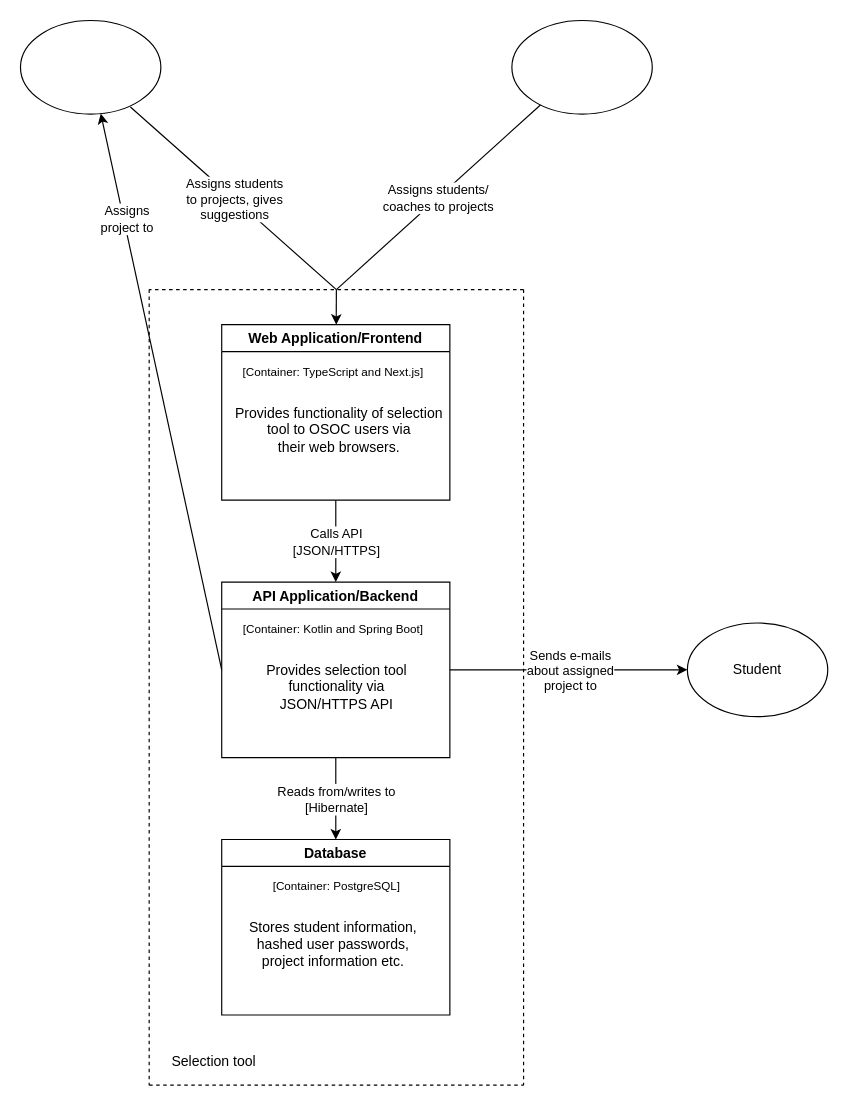
Image size: 848x1107. Some labels were removed from this diagram. The centre of each missing label's shape, as x and y in pixels:
OSOC Admin: the point at 581,66
OSOC Coach: the point at 90,66
